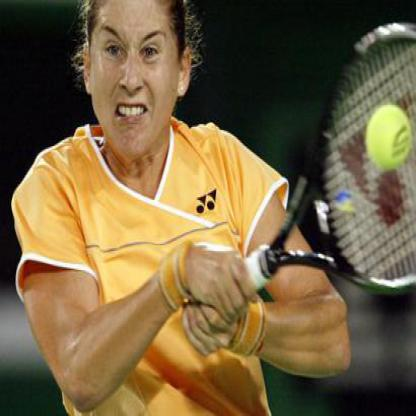face: (89, 1, 183, 162)
